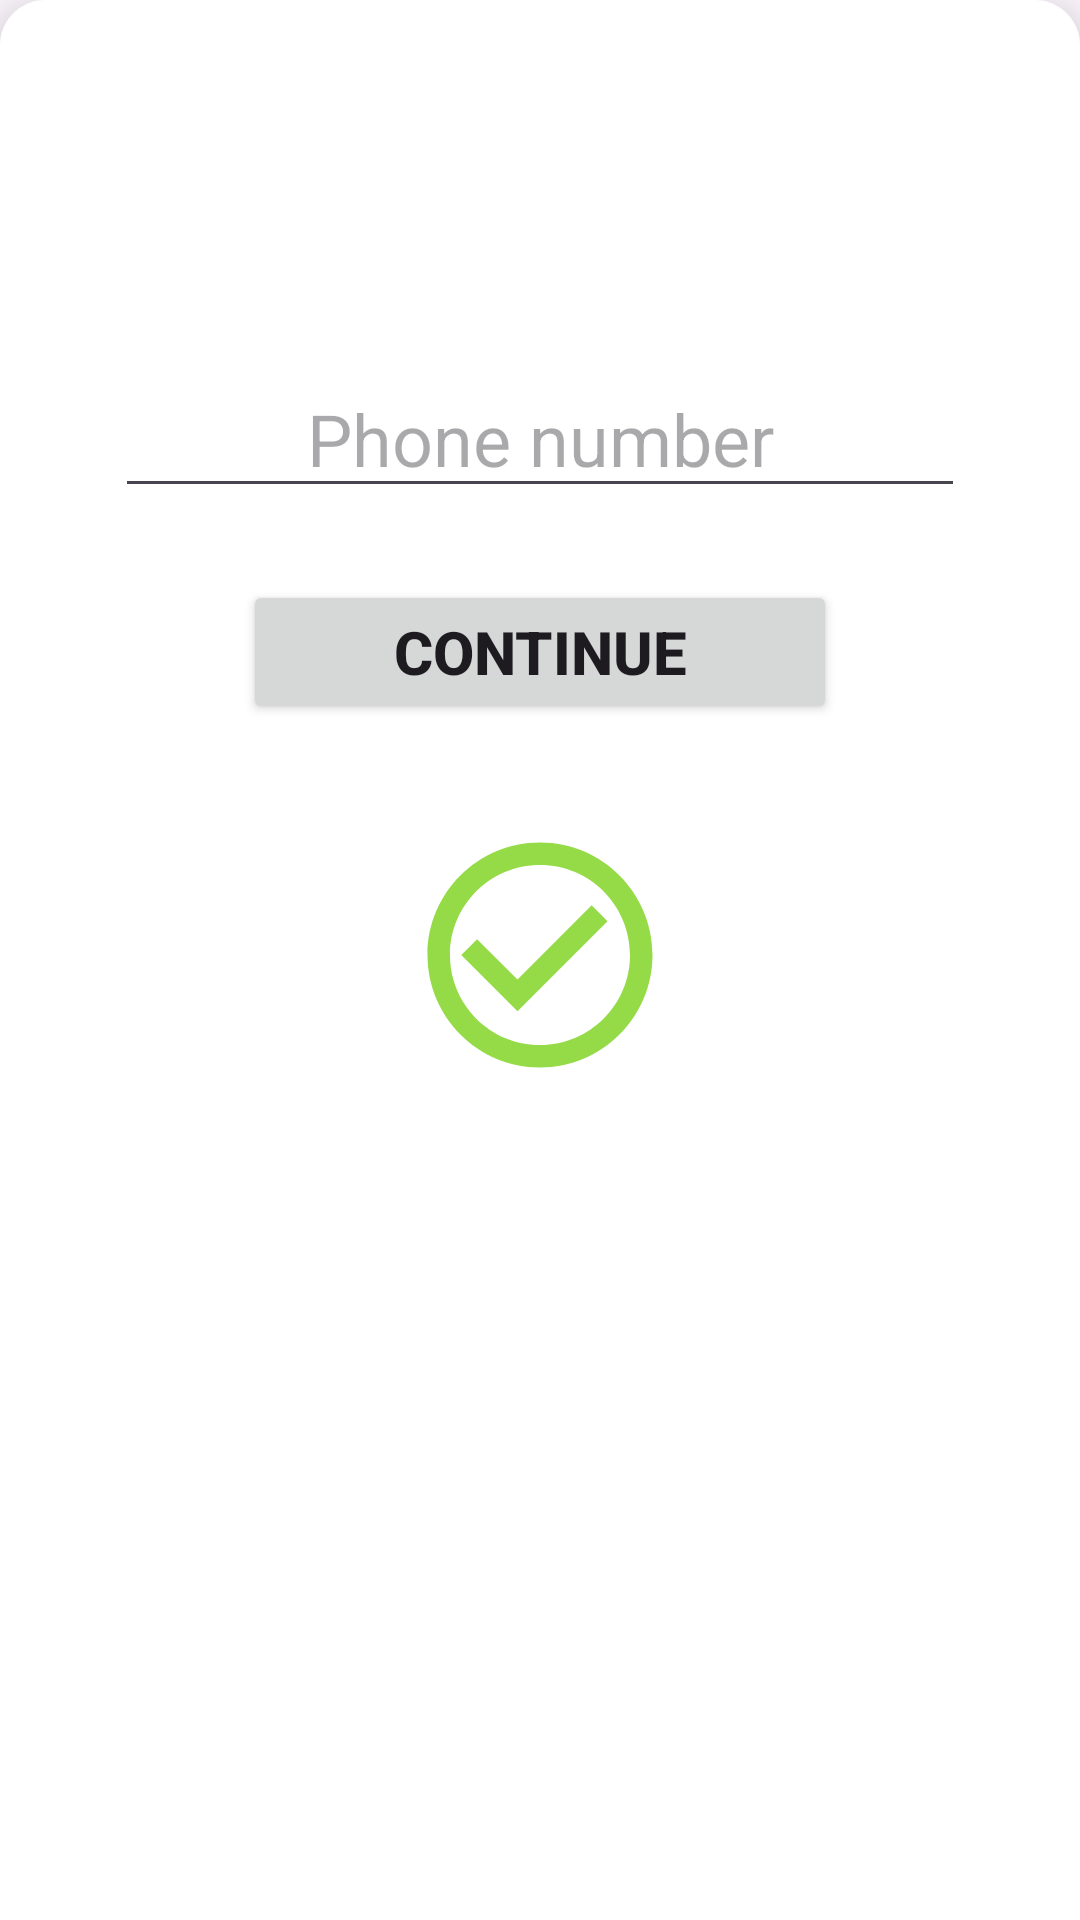

Named icons in this screenshot (1080×1920) and their bounding boxes, (x1, y1, x2, y2):
check circle: (427, 842, 653, 1068)
